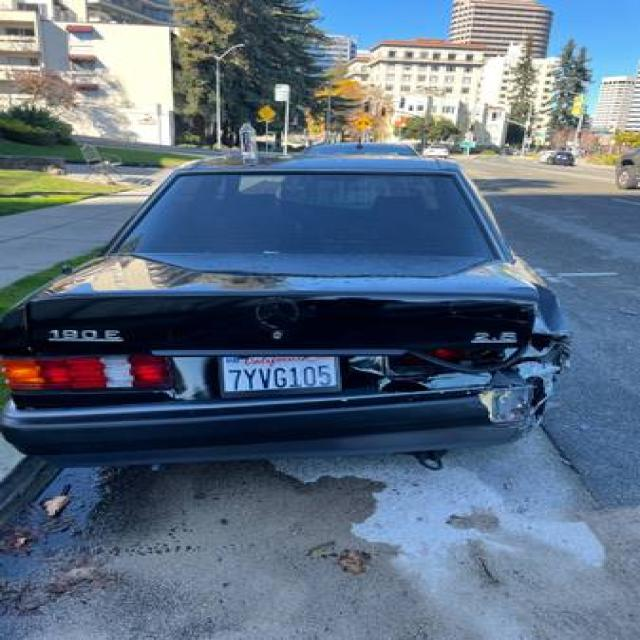crush: (344, 284, 573, 440)
